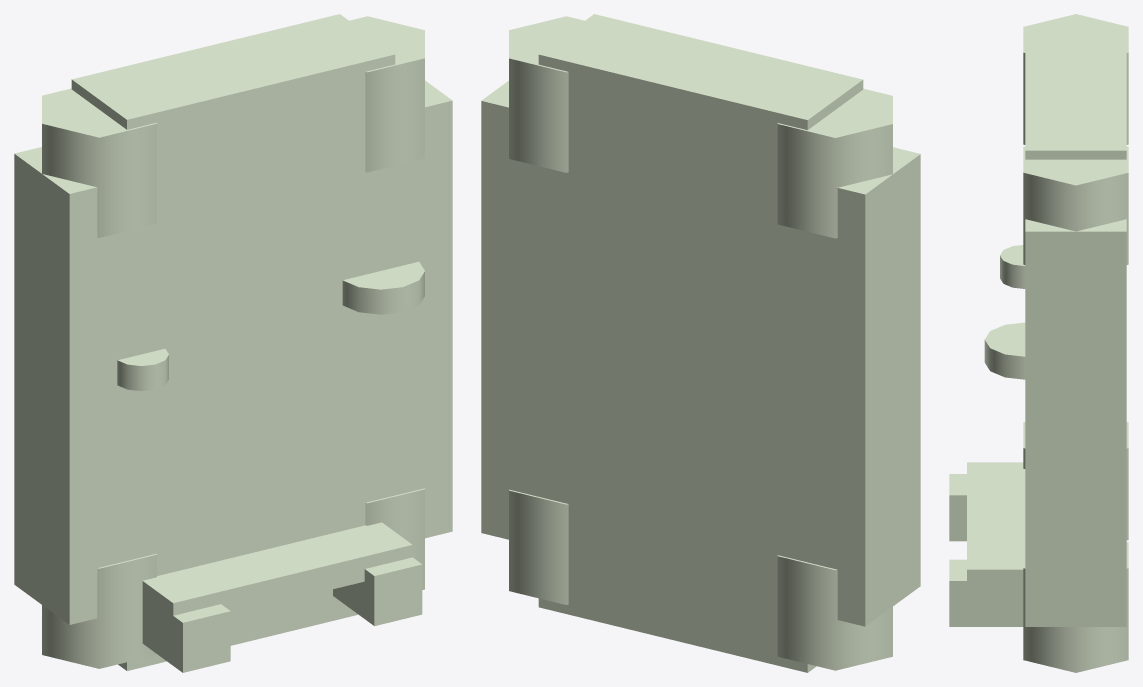
Rendered from retro_game_unity.gltf.
3 renders of one model, left to right at view 1: azimuth 30°, elevation 25°; view 2: azimuth 150°, elevation 25°; view 3: azimuth 270°, elevation 25°, orthographic. The views are drawn at different scales.
Visible parts, largest first — view 1: retro_game_unity; view 2: retro_game_unity; view 3: retro_game_unity.
Part boxes in pixels (<box>): retro_game_unity: <box>14,14,452,672</box>; retro_game_unity: <box>481,14,920,672</box>; retro_game_unity: <box>949,14,1128,672</box>.
Size of the model in its own units: 0.8 by 1.1 by 0.3539.
